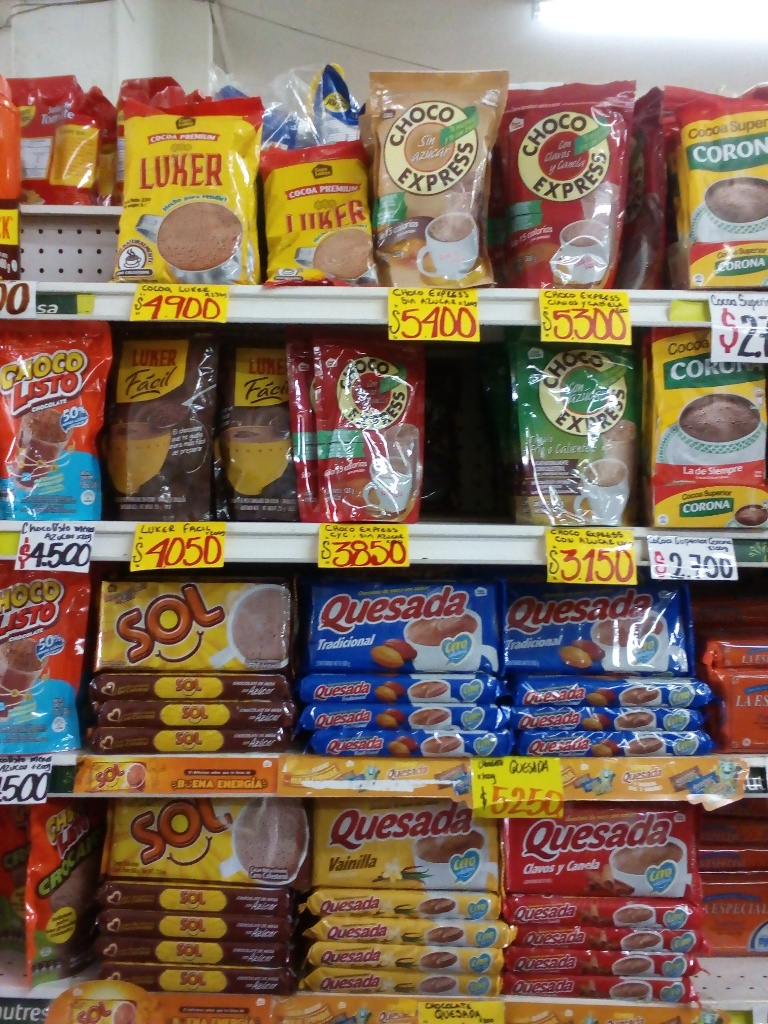COL0170104DYP20000: (2, 560, 91, 750)
